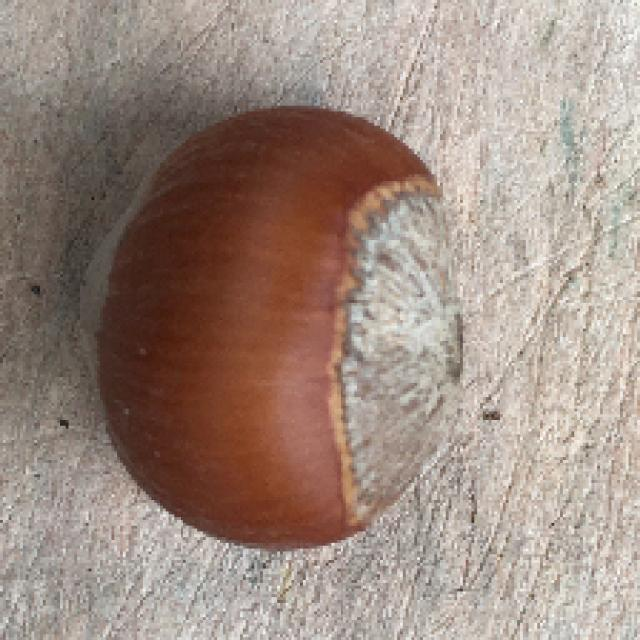QualityHazelnut: (74, 97, 470, 554)
